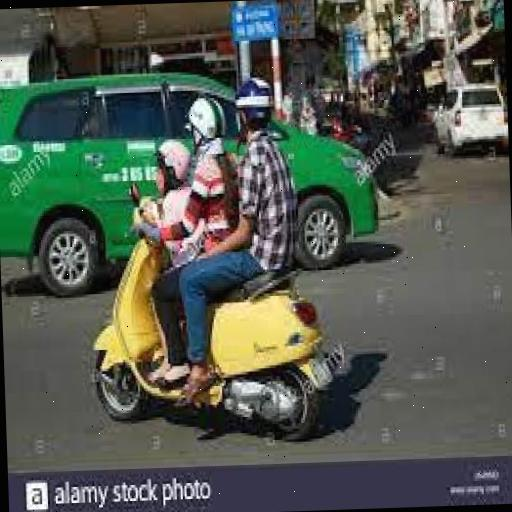helmet: (169, 80, 255, 197)
triple riding: (76, 72, 352, 452)
